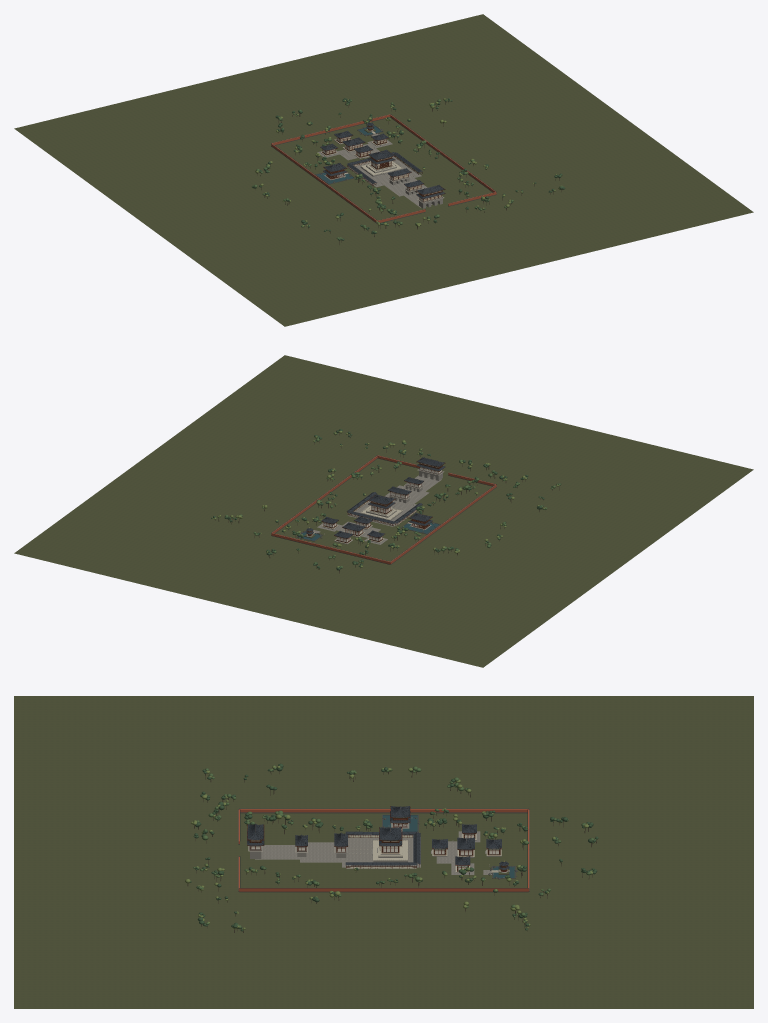
Rendered from gyeongbokgung.glb.
3 views of the same model, one above another, from view 1: azimuth 30°, elevation 25°; view 2: azimuth 150°, elevation 25°; view 3: azimuth 270°, elevation 25° (orthographic). The views are drawn at different scales.
Visible parts, largest first — view 1: site_ground, site_plaster_wall, site_foliage, site_paving, site_foliage_sun, site_foliage_light, site_stone_dark, site_roof; view 2: site_ground, site_plaster_wall, site_foliage, site_paving, site_foliage_sun, site_foliage_light, site_stone_dark, site_roof; view 3: site_ground, site_paving, site_plaster_wall, site_foliage, site_foliage_sun, site_foliage_light, site_stone_dark, site_roof, site_trunk, site_ridge.
Part boxes in pixels (x1,y1,x2,y2): site_ground: (14,14,753,326); site_plaster_wall: (271,114,496,222); site_foliage: (253,98,565,240); site_paving: (317,133,432,207); site_foliage_sun: (255,98,561,240); site_foliage_light: (252,99,563,239); site_stone_dark: (271,117,496,223); site_roof: (271,114,496,220); site_ground: (14,355,753,667); site_plaster_wall: (271,455,496,564); site_foliage: (211,429,561,570); site_paving: (313,475,441,544); site_foliage_sun: (212,431,559,568); site_foliage_light: (213,432,560,568); site_stone_dark: (271,458,496,564); site_roof: (271,455,496,561); site_ground: (14,696,753,1008); site_paving: (255,831,493,874); site_plaster_wall: (238,809,529,891); site_foliage: (190,763,598,931); site_foliage_sun: (185,765,593,929); site_foliage_light: (193,765,596,929); site_stone_dark: (238,812,529,892); site_roof: (238,809,529,888); site_trunk: (187,769,596,932); site_ridge: (239,808,528,888).
Bounding box in the file's own units: 900 × 33.98 × 900.
Materials: 42 (26 with a texture image).
